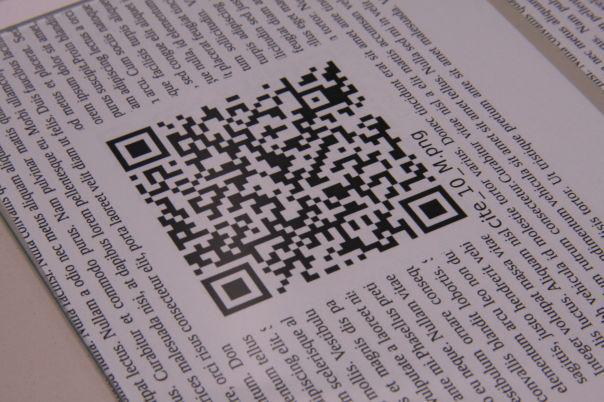Finder pattern: (200, 264, 273, 315), (400, 187, 466, 235), (109, 125, 168, 170)
